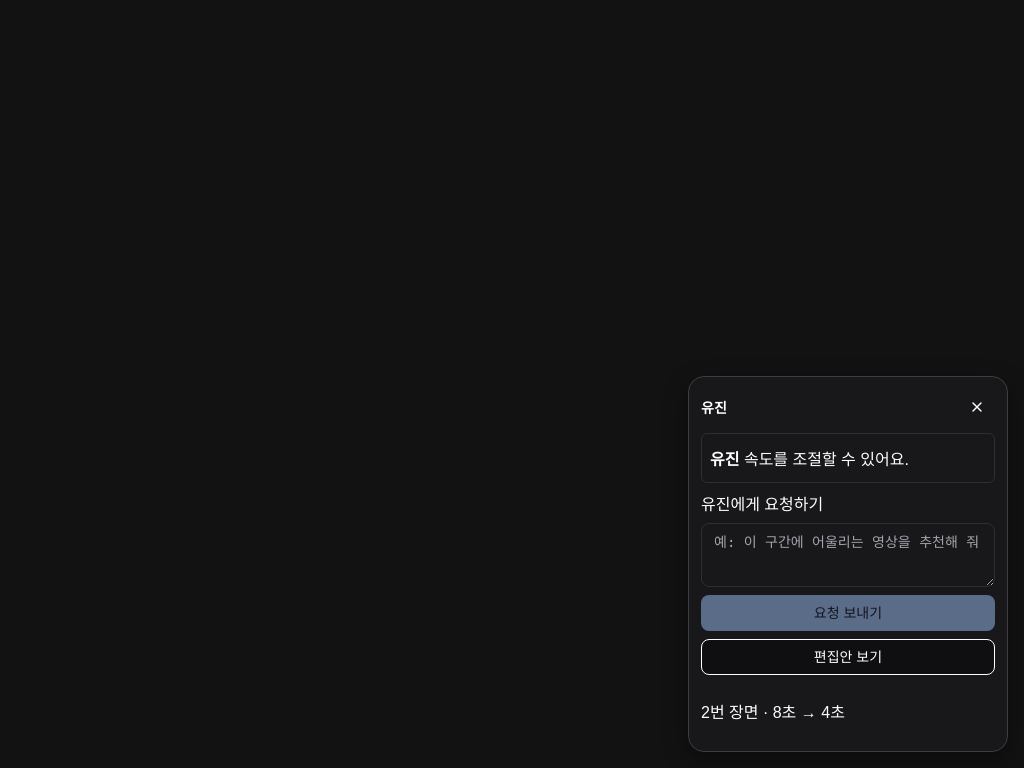
Test case: 편집안 미리보기 › 만드는 중에는 영상 대신 진행 상태를 말한다
Click the button "편집안 보기": (848, 657) [701, 639, 995, 675]
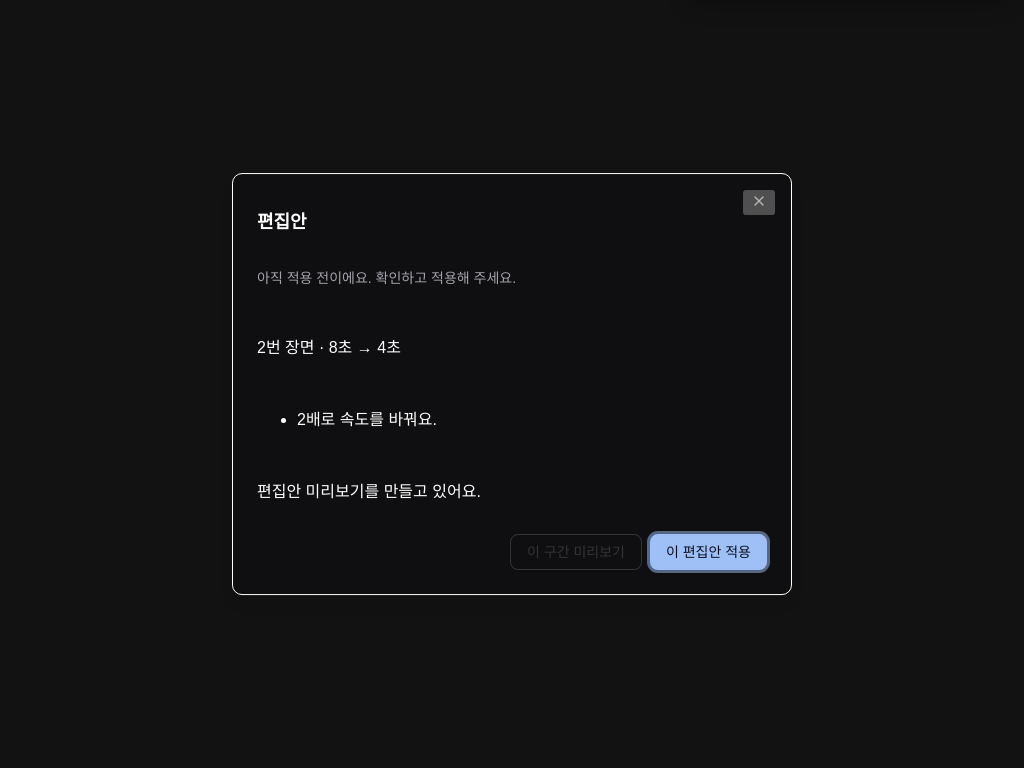
Now the dialog "편집안" shows "편집안 미리보기를 만들고 있어요.", box [257, 483, 481, 500]
